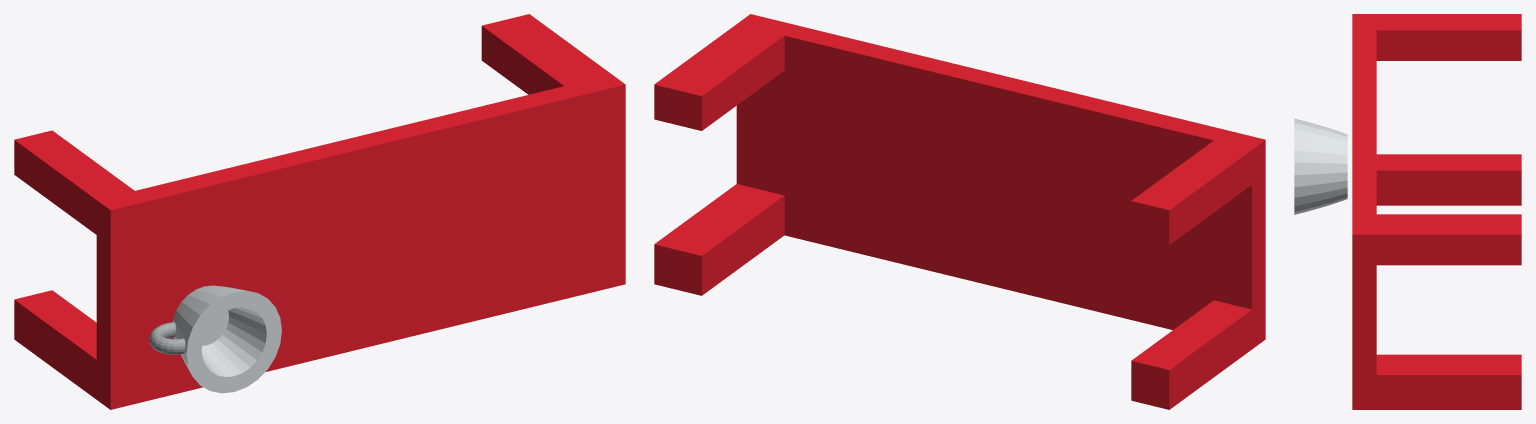
File: tinker.obj
3 renders of one model, left to right at view 1: azimuth 30°, elevation 25°; view 2: azimuth 150°, elevation 25°; view 3: azimuth 270°, elevation 25°, orthographic. The views are drawn at different scales.
Parts seen in each view (by area): view 1: group_0_15277357, group_0_14541540, group_0_10988977; view 2: group_0_15277357; view 3: group_0_15277357, group_0_14541540.
Boxes of the visible parts, x1,y1,x2,y2 form: group_0_15277357: [14, 14, 625, 409]; group_0_14541540: [172, 285, 281, 393]; group_0_10988977: [149, 322, 185, 354]; group_0_15277357: [654, 14, 1265, 409]; group_0_15277357: [1352, 14, 1521, 409]; group_0_14541540: [1294, 118, 1347, 214].
Size of the model in its own units: 108 by 40 by 47.
